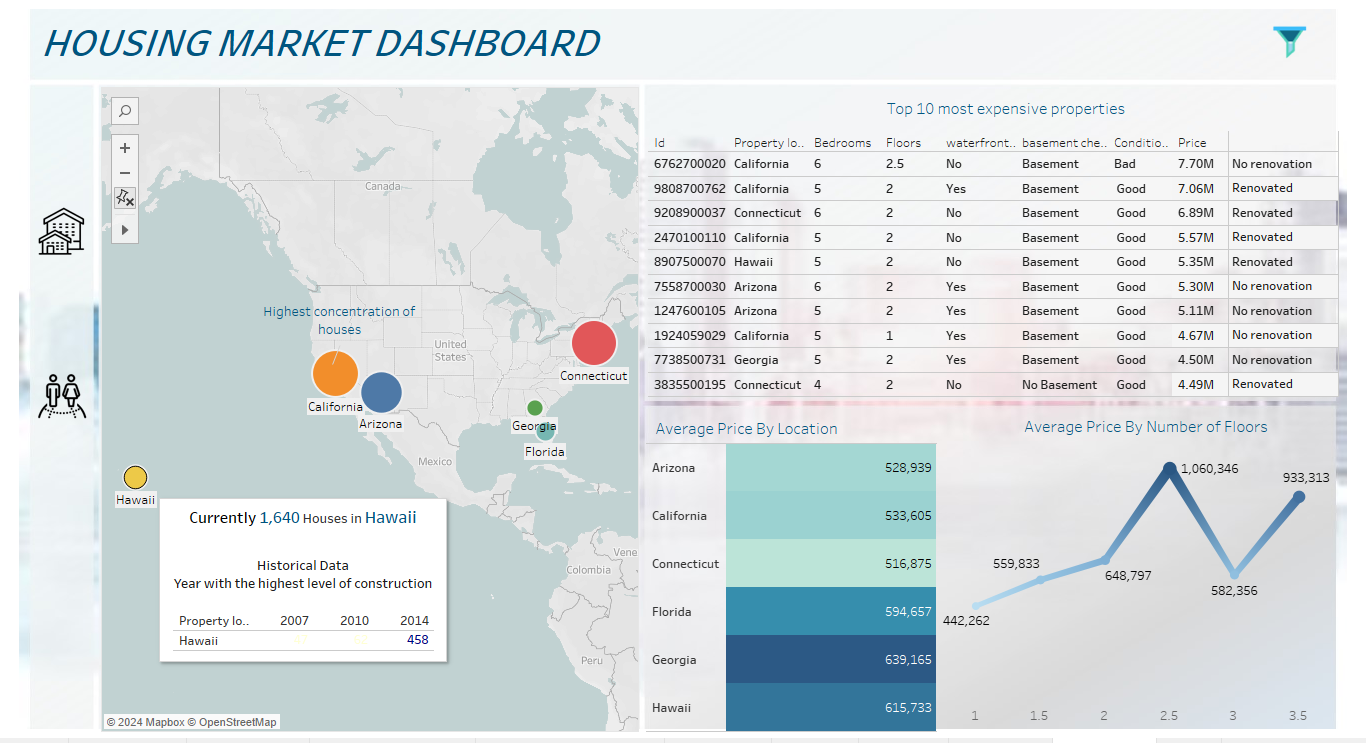

The page's visual inventory and layout, read from the dashboard file:
{"tool":"tableau","page":{"name":"Dashboard 2","canvas":[1366,720],"ordinal":1},"visuals":[{"type":"image","param":"Image/ignite bg2.jpg","box":[0,0,1366,720]},{"type":"text","box":[38,4,1025,57]},{"type":"dashboard-object","box":[1264,13,51,39]},{"type":"filter","title":"top 10 expensive locations","param":"[federated.02kpcsb0cqzgkm1d0lef509a5wsl].[none:Property location:nk]","box":[1176,54,158,52]},{"type":"worksheet","title":"map of property concentration","mark":"Automatic","box":[101,78,538,645]},{"type":"text","box":[860,78,292,42]},{"type":"filter","title":"avg price by location","param":"[federated.02kpcsb0cqzgkm1d0lef509a5wsl].[none:Calculation_1764003710274711554:n","box":[1176,106,158,52]},{"type":"worksheet","title":"top 10 expensive locations","mark":"Automatic","rows":["id","Property location","bedrooms","floors","Calculation_1764003710270324736","Calculation_1764003710270492673","Calculation_212232164032946176","price"],"box":[648,122,691,266]},{"type":"dashboard-object","box":[32,197,60,50]},{"type":"dashboard-object","box":[31,363,63,50]},{"type":"text","box":[1003,398,286,39]},{"type":"text","box":[647,400,199,39]},{"type":"worksheet","title":"avg price by location","mark":"Square","rows":["Property location"],"box":[646,434,291,289]},{"type":"worksheet","title":"avg price by floors","mark":"Line","rows":["price"],"cols":["floors"],"box":[943,442,388,274]}]}

Visuals, with their boxes on the page's 1366x720 design canvas (x1, y1, x2, y2). These are canvas units, not pixel positions in the 1366x743 screenshot, which may show the page scaled, cropped or inside an application window:
image: x1=0, y1=0, x2=1366, y2=720
text: x1=38, y1=4, x2=1063, y2=61
dashboard-object: x1=1264, y1=13, x2=1315, y2=52
"top 10 expensive locations" filter: x1=1176, y1=54, x2=1334, y2=106
"map of property concentration" worksheet: x1=101, y1=78, x2=639, y2=723
text: x1=860, y1=78, x2=1152, y2=120
"avg price by location" filter: x1=1176, y1=106, x2=1334, y2=158
"top 10 expensive locations" worksheet: x1=648, y1=122, x2=1339, y2=388
dashboard-object: x1=32, y1=197, x2=92, y2=247
dashboard-object: x1=31, y1=363, x2=94, y2=413
text: x1=1003, y1=398, x2=1289, y2=437
text: x1=647, y1=400, x2=846, y2=439
"avg price by location" worksheet (Square marks): x1=646, y1=434, x2=937, y2=723
"avg price by floors" worksheet (Line marks): x1=943, y1=442, x2=1331, y2=716
